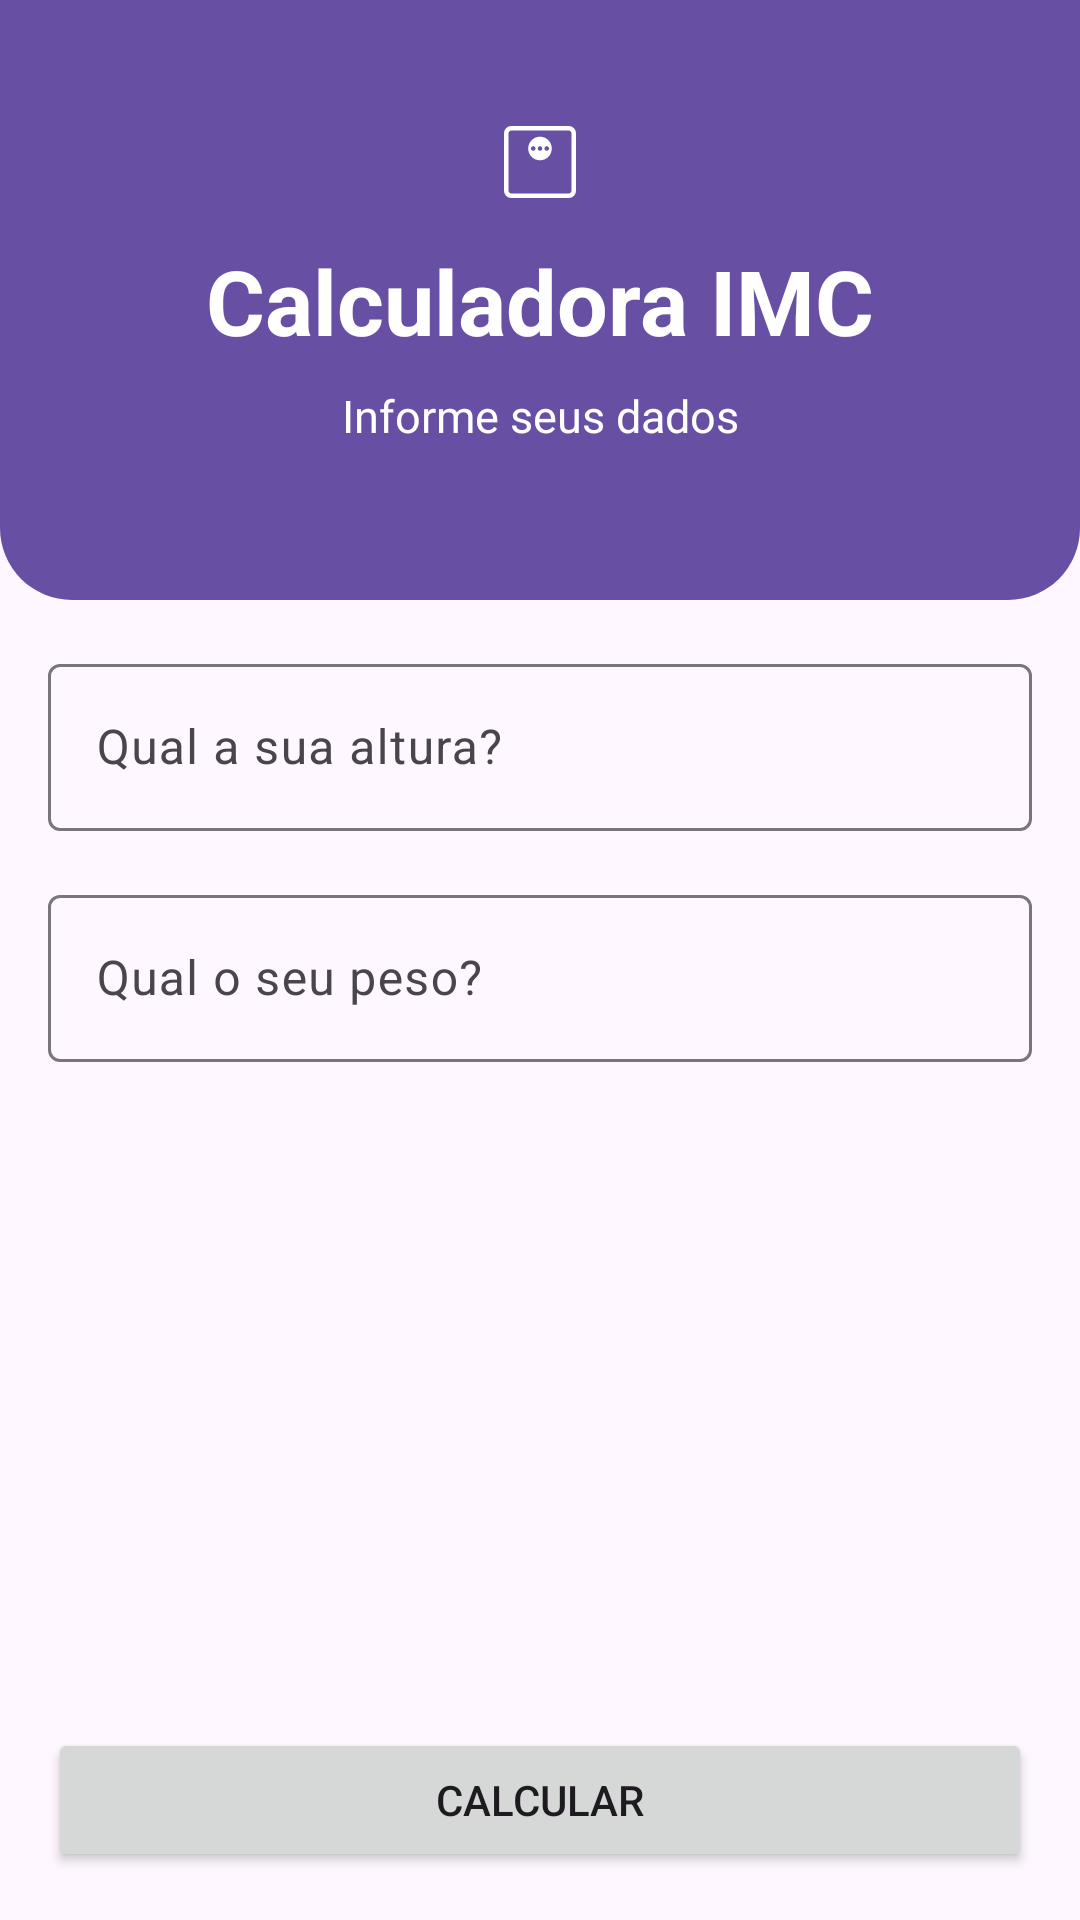

Icon bounding boxes for this 1080×1920 phone screenshot, format (x1=x1, y1=y1, x2=x2, y2=y2):
Imagem balança IMC: (x1=504, y1=126, x2=576, y2=198)
